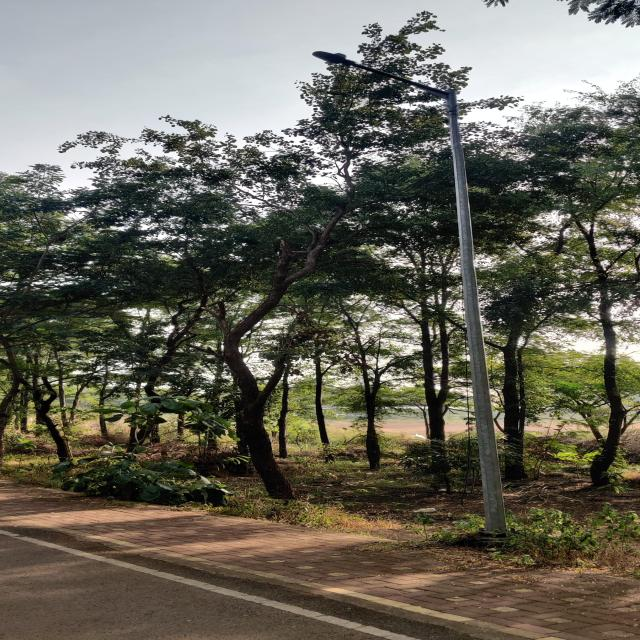Devakanchan tree: (124, 11, 485, 291)
